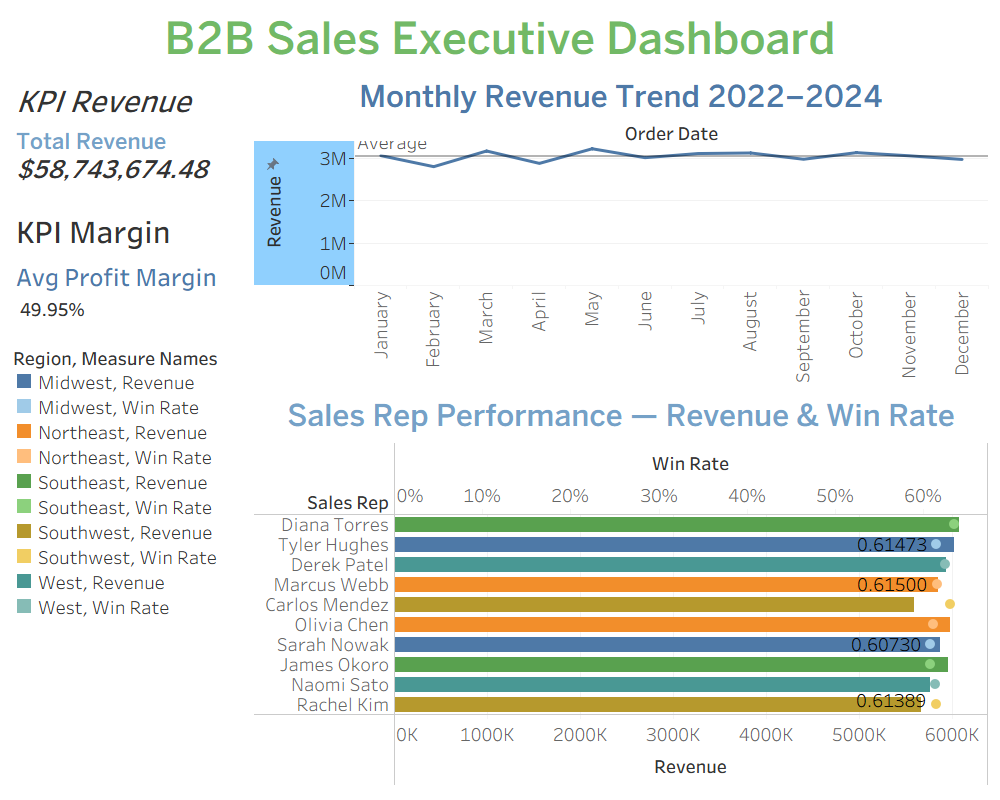

This screenshot's page, from the dashboard's own definition file:
{"tool":"tableau","page":{"name":"B2B Sales Executive Dashboard","canvas":[1000,800],"ordinal":0},"visuals":[{"type":"title","box":[8,8,984,61]},{"type":"worksheet","title":"KPI Revenue","mark":"Automatic","box":[8,69,242,131]},{"type":"worksheet","title":"Monthly Trend","mark":"Line","rows":["Revenue"],"cols":["Order_Date"],"box":[250,69,742,319]},{"type":"worksheet","title":"KPI Margin","mark":"Automatic","box":[8,200,242,139]},{"type":"legend","title":"Rep Scorecard","param":"[federated.1onhfmy0fe18611g4yiwo0migmu3].[none:Region:nk]\n[federated.1onhfmy0fe1","box":[8,339,242,453]},{"type":"worksheet","title":"Rep Scorecard","mark":"Automatic","rows":["Sales_Rep"],"cols":["Revenue","Calculation_0073397537046528"],"box":[250,388,742,404]}]}

Visuals, with their boxes in screenshot pixels (x1, y1, x2, y2), scaled from the page's 1000x800 canvas onto the 1000x800 screenshot:
title: <bbox>8, 8, 992, 69</bbox>
"KPI Revenue" worksheet: <bbox>8, 69, 250, 200</bbox>
"Monthly Trend" worksheet (Line marks): <bbox>250, 69, 992, 388</bbox>
"KPI Margin" worksheet: <bbox>8, 200, 250, 339</bbox>
"Rep Scorecard" legend: <bbox>8, 339, 250, 792</bbox>
"Rep Scorecard" worksheet: <bbox>250, 388, 992, 792</bbox>
